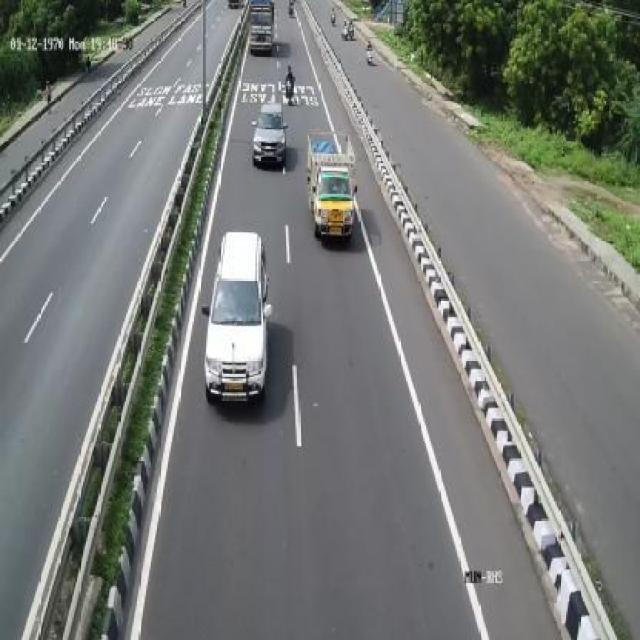car: (204, 222, 276, 412), (255, 91, 291, 171)
